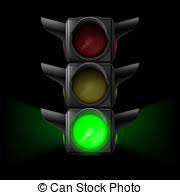green: (63, 16, 117, 154), (71, 21, 110, 149)
